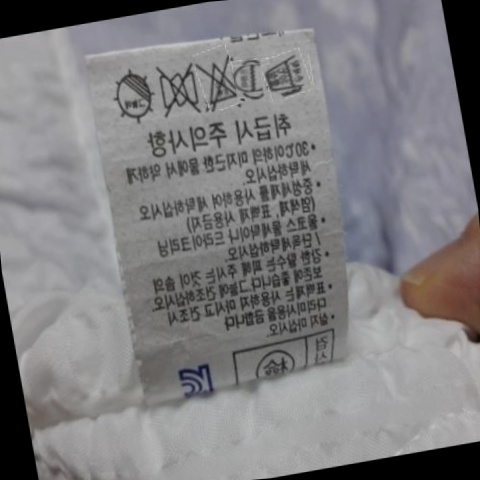DN_wring: (152, 62, 200, 116)
dry_clean: (233, 59, 266, 96)
hand_wash: (261, 50, 308, 95)
non_chlorine_bleach: (199, 55, 238, 108)
shade_dry: (108, 67, 157, 127)
